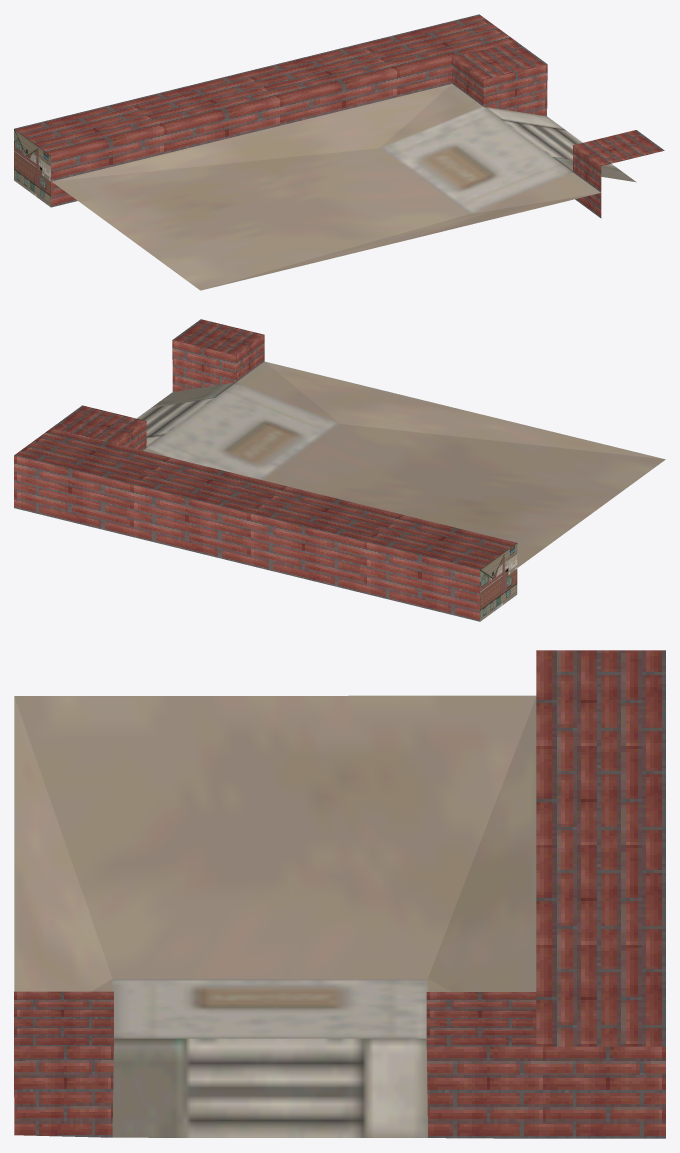
3 renders of one model, top to bottom at view 1: azimuth 30°, elevation 25°; view 2: azimuth 150°, elevation 25°; view 3: azimuth 270°, elevation 25°, orthographic. The views are drawn at different scales.
Parts seen in each view (by area): view 1: Object05; view 2: Object05; view 3: Object05.
Part boxes in pixels (x1,y1,x2,y2): Object05: (14,14,664,290); Object05: (14,319,665,621); Object05: (14,650,665,1138).
Size of the model in its own units: 850 by 91.62 by 588.
Materials: 3 (3 with a texture image).
